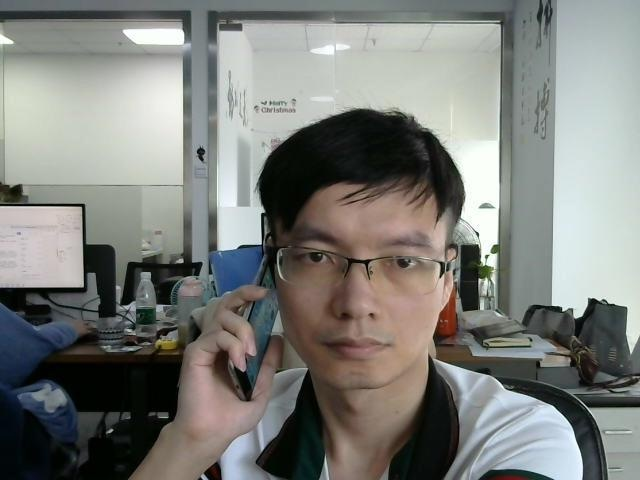hand: (184, 286, 283, 417)
